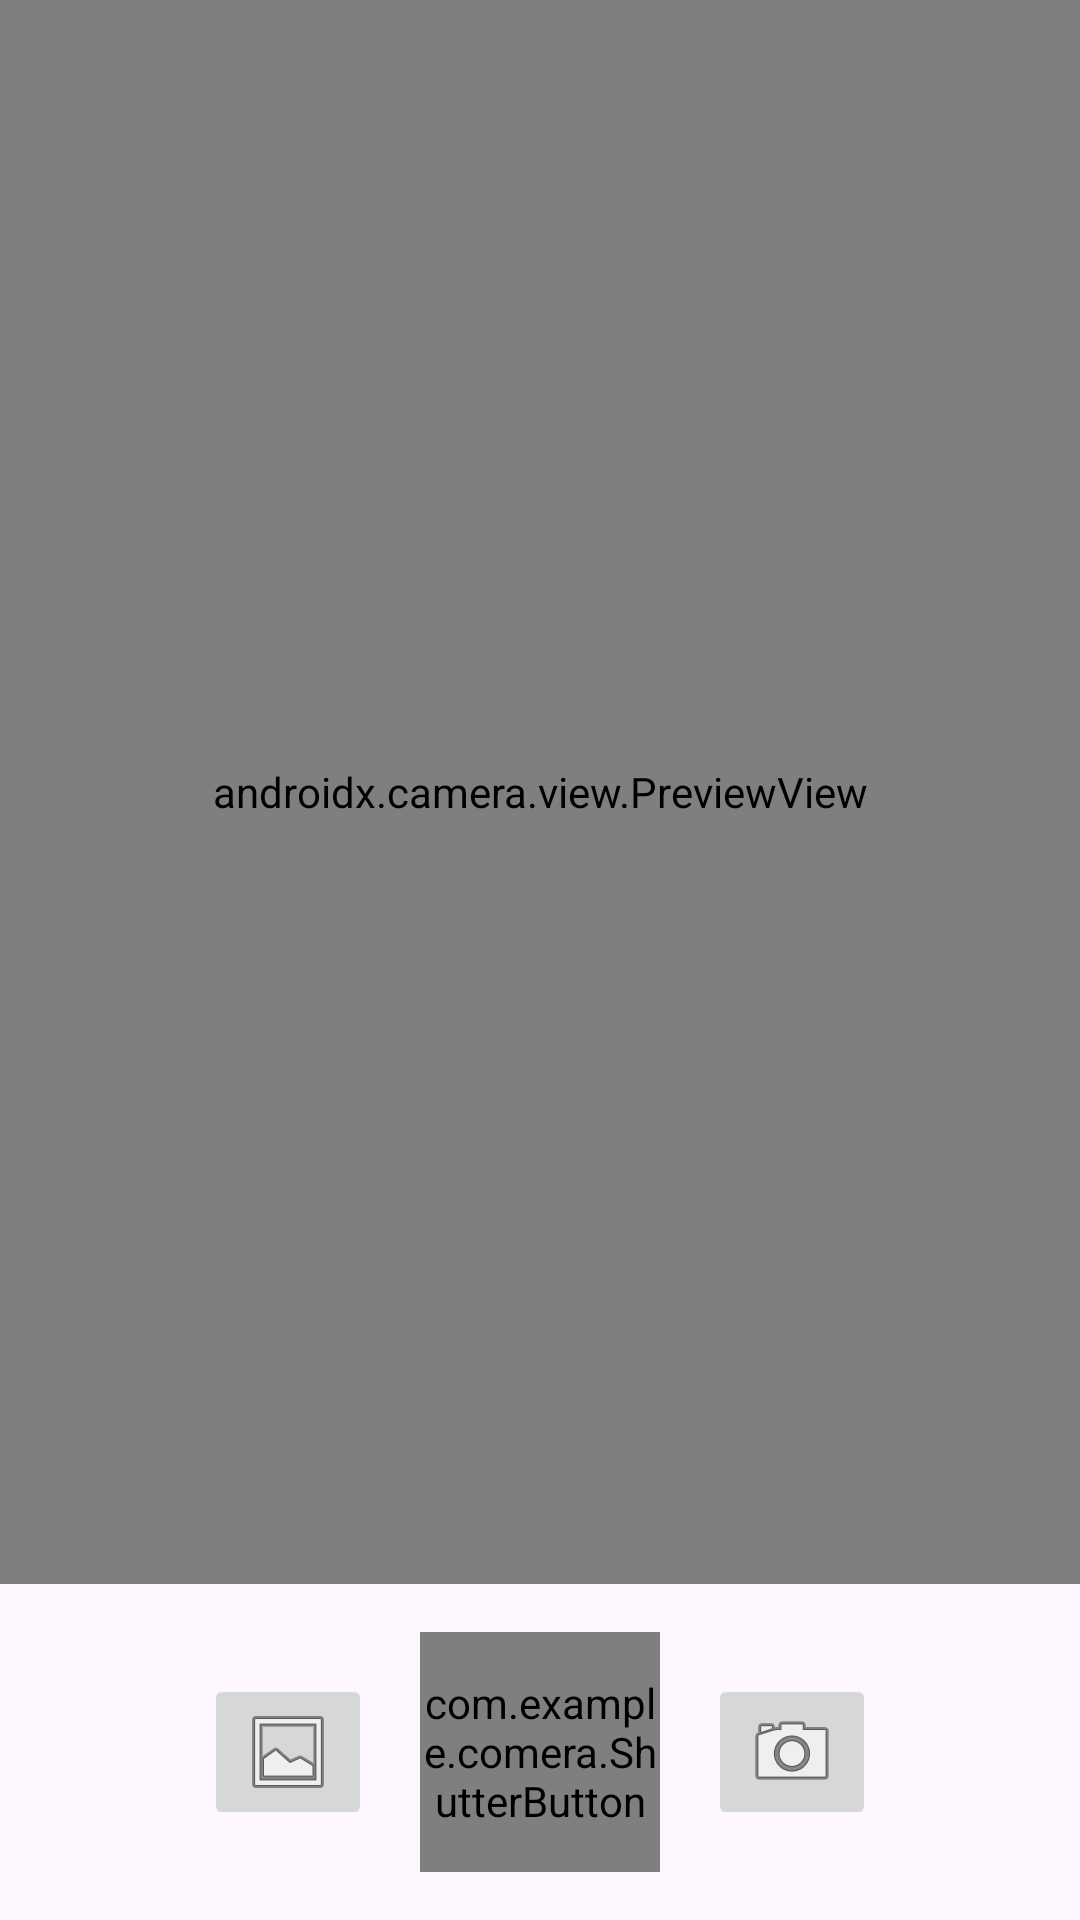

Icon bounding boxes for this 1080px×1920px phone screenshot, format detection(x1, y1, x2, y2):
gallery: detection(216, 1692, 360, 1812)
